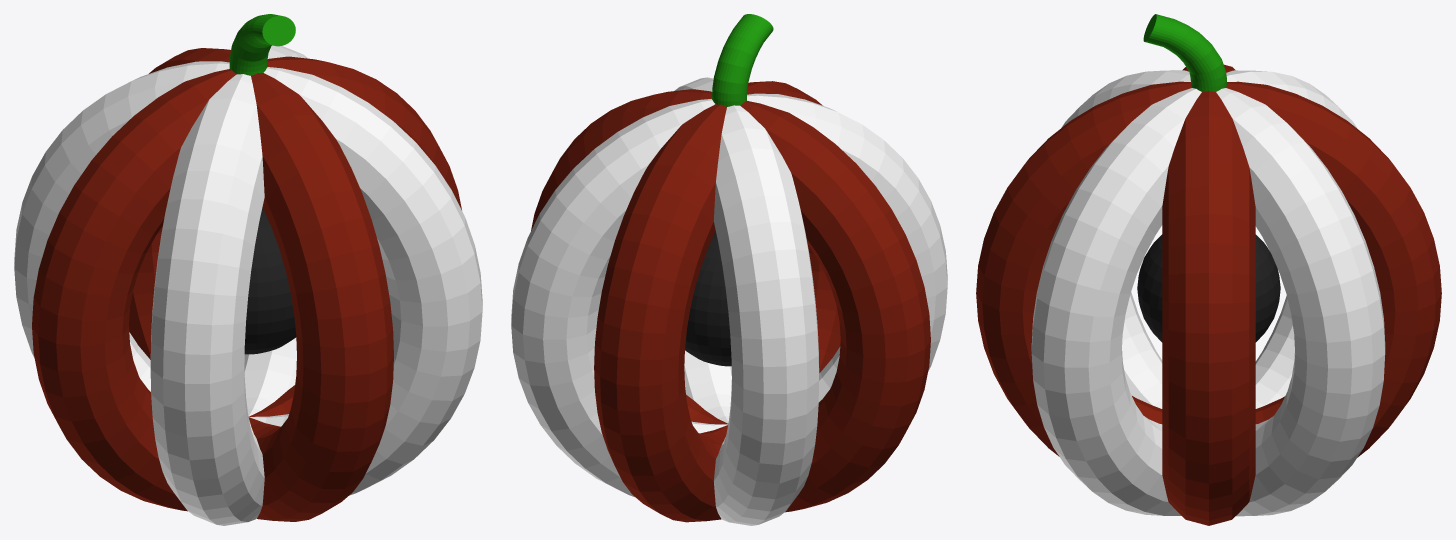
File: Fruta.fbx
The picture shows the model from 3 angles, left to right: view 1: azimuth 30°, elevation 25°; view 2: azimuth 150°, elevation 25°; view 3: azimuth 270°, elevation 25°; orthographic projection. The views are drawn at different scales.
Visible parts, largest first — view 1: Torus, Torus.002, Torus.001, Torus.003, Sphere, Cylinder; view 2: Torus, Torus.003, Torus.001, Torus.002, Sphere, Cylinder; view 3: Torus.003, Torus.002, Torus, Torus.001, Sphere, Cylinder.
Boxes of the visible parts, x1=… form: Torus: x1=129, y1=48, x2=393, y2=521; Torus.002: x1=14, y1=61, x2=482, y2=495; Torus.001: x1=32, y1=56, x2=461, y2=511; Torus.003: x1=150, y1=45, x2=307, y2=525; Sphere: x1=244, y1=207, x2=296, y2=354; Cylinder: x1=229, y1=14, x2=295, y2=75; Torus: x1=594, y1=81, x2=840, y2=522; Torus.003: x1=511, y1=93, x2=947, y2=496; Torus.001: x1=531, y1=89, x2=930, y2=512; Torus.002: x1=674, y1=77, x2=819, y2=525; Sphere: x1=685, y1=231, x2=731, y2=366; Cylinder: x1=712, y1=14, x2=773, y2=106; Torus.003: x1=1061, y1=70, x2=1385, y2=516; Torus.002: x1=1031, y1=70, x2=1357, y2=515; Torus: x1=976, y1=81, x2=1441, y2=457; Torus.001: x1=1162, y1=64, x2=1255, y2=525; Sphere: x1=1137, y1=234, x2=1280, y2=342; Cylinder: x1=1143, y1=14, x2=1226, y2=91.
Bounding box in the file's own units: 123 × 142 × 123.
6 materials, 6 textured.
